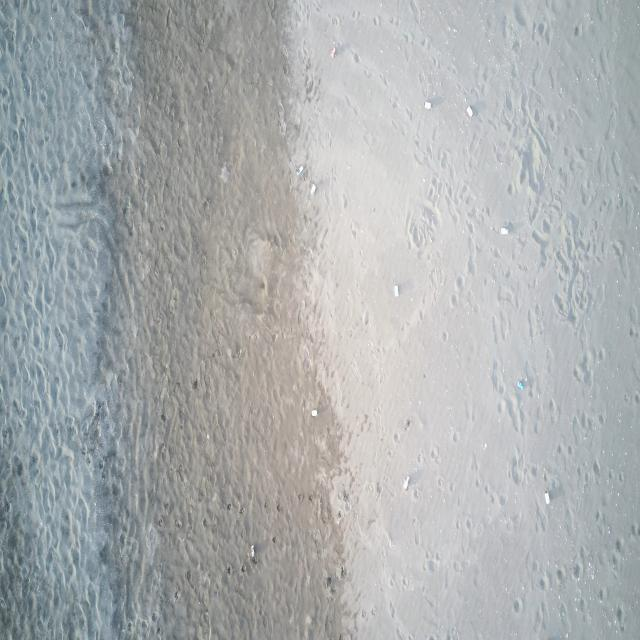Garbage: (219, 163, 228, 183), (248, 544, 255, 563), (515, 379, 524, 390), (392, 283, 399, 296), (248, 544, 255, 557), (296, 164, 303, 176), (403, 475, 409, 489), (544, 491, 550, 504), (310, 183, 316, 195), (329, 45, 335, 57), (499, 227, 507, 235), (424, 100, 431, 108), (467, 105, 472, 116), (311, 408, 316, 415)
